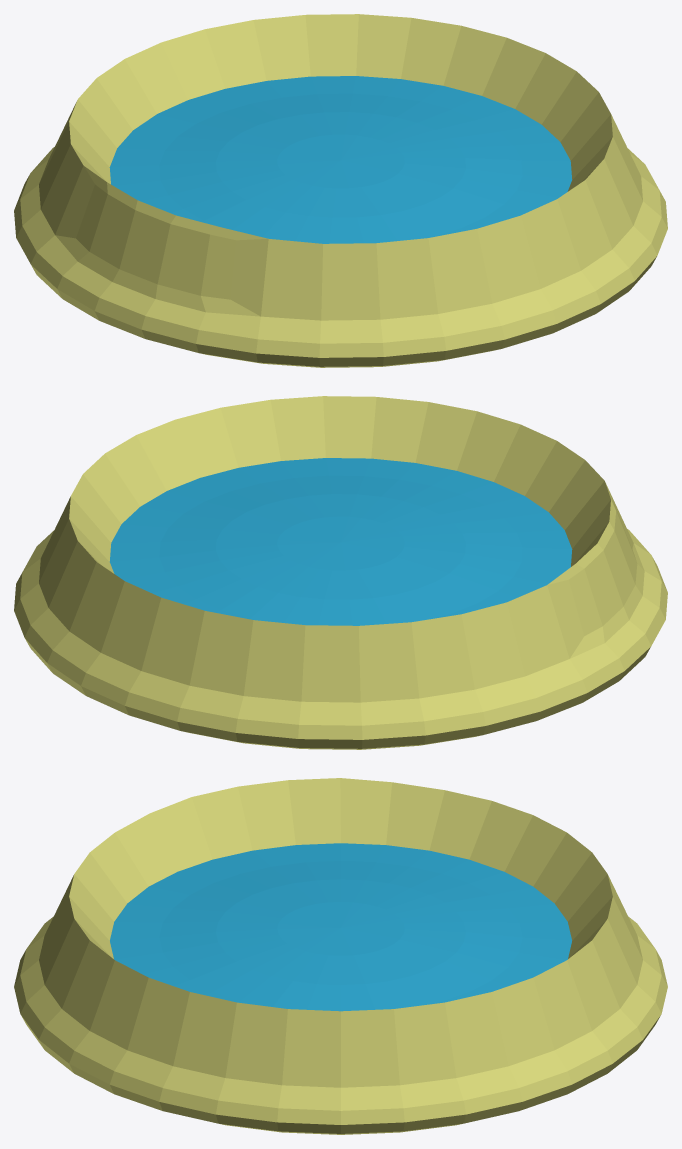
File: bowl_of_water.fbx
3 views of the same model, one above another, from view 1: azimuth 30°, elevation 25°; view 2: azimuth 150°, elevation 25°; view 3: azimuth 270°, elevation 25° (orthographic).
Parts seen in each view (by area): view 1: Sphere; view 2: Sphere; view 3: Sphere.
Boxes of the visible parts, x1=… form: Sphere: x1=14, y1=14, x2=667, y2=367; Sphere: x1=14, y1=396, x2=667, y2=749; Sphere: x1=14, y1=778, x2=667, y2=1134.
Size of the model in its own units: 106 by 21.11 by 106.
